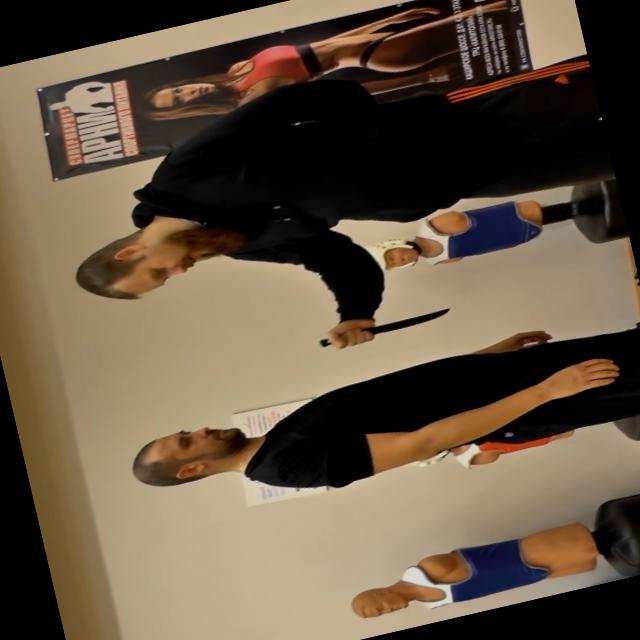knife: (308, 300, 458, 358)
